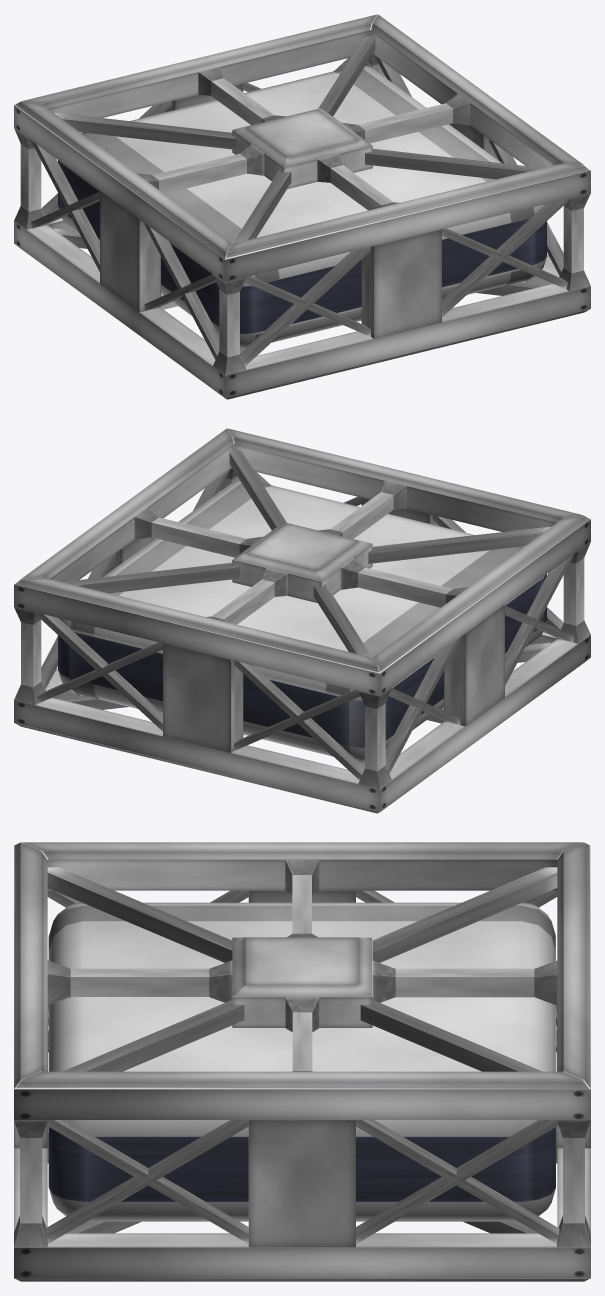
Rendered from Chassis1u.FBX.
3 renders of one model, top to bottom at view 1: azimuth 30°, elevation 25°; view 2: azimuth 150°, elevation 25°; view 3: azimuth 270°, elevation 25°, orthographic. The views are drawn at different scales.
Visible parts, largest first — view 1: Frame001, StorageTank001, Frame002, SideHardpoint002, TopHardpoint001, Bracing017, SideHardpoint001, Bracing018, Pilar008, Pilar006, Pilar002, Bracing013 (+14 smaller); view 2: Frame001, StorageTank001, Frame002, SideHardpoint004, TopHardpoint001, Bracing018, SideHardpoint001, Bracing017, Pilar008, Pilar006, Pilar001, Bracing009 (+14 smaller); view 3: StorageTank001, Frame001, Frame002, SideHardpoint003, TopHardpoint001, Bracing017, Bracing018, Pilar005, Pilar007, Bracing007, Bracing006, Bracing005 (+8 smaller).
Part boxes in pixels (box(x1,y1,x2,y2)): Frame001: box(14, 14, 590, 282); StorageTank001: box(58, 66, 546, 348); Frame002: box(14, 218, 590, 399); SideHardpoint002: box(361, 229, 441, 338); TopHardpoint001: box(232, 108, 372, 188); Bracing017: box(54, 112, 541, 179); SideHardpoint001: box(100, 191, 160, 312); Bracing018: box(233, 35, 375, 243); Pilar008: box(341, 94, 470, 143); Pilar006: box(136, 144, 264, 193); Pilar002: box(213, 273, 246, 375); Bracing013: box(240, 245, 374, 366); Frame001: box(14, 428, 590, 696); StorageTank001: box(58, 480, 546, 762); Frame002: box(14, 632, 590, 813); SideHardpoint004: box(163, 643, 243, 752); TopHardpoint001: box(232, 522, 372, 602); Bracing018: box(63, 526, 550, 593); SideHardpoint001: box(444, 605, 504, 726); Bracing017: box(229, 449, 372, 657); Pilar008: box(134, 508, 263, 557); Pilar006: box(340, 558, 468, 607); Pilar001: box(358, 687, 391, 789); Bracing009: box(230, 659, 364, 780); StorageTank001: box(48, 902, 555, 1221); Frame001: box(14, 842, 590, 1119); Frame002: box(14, 1014, 590, 1281); SideHardpoint003: box(248, 1120, 355, 1247); TopHardpoint001: box(232, 937, 372, 1027); Bracing017: box(63, 867, 557, 1071); Bracing018: box(47, 867, 541, 1071); Pilar005: box(372, 960, 557, 1005); Pilar007: box(47, 960, 232, 1005); Bracing007: box(45, 1120, 258, 1243); Bracing006: box(345, 1120, 559, 1243); Bracing005: box(356, 1120, 567, 1243).
Size of what is drawn, in the model's own units: 0.846 by 0.3261 by 0.8462.
